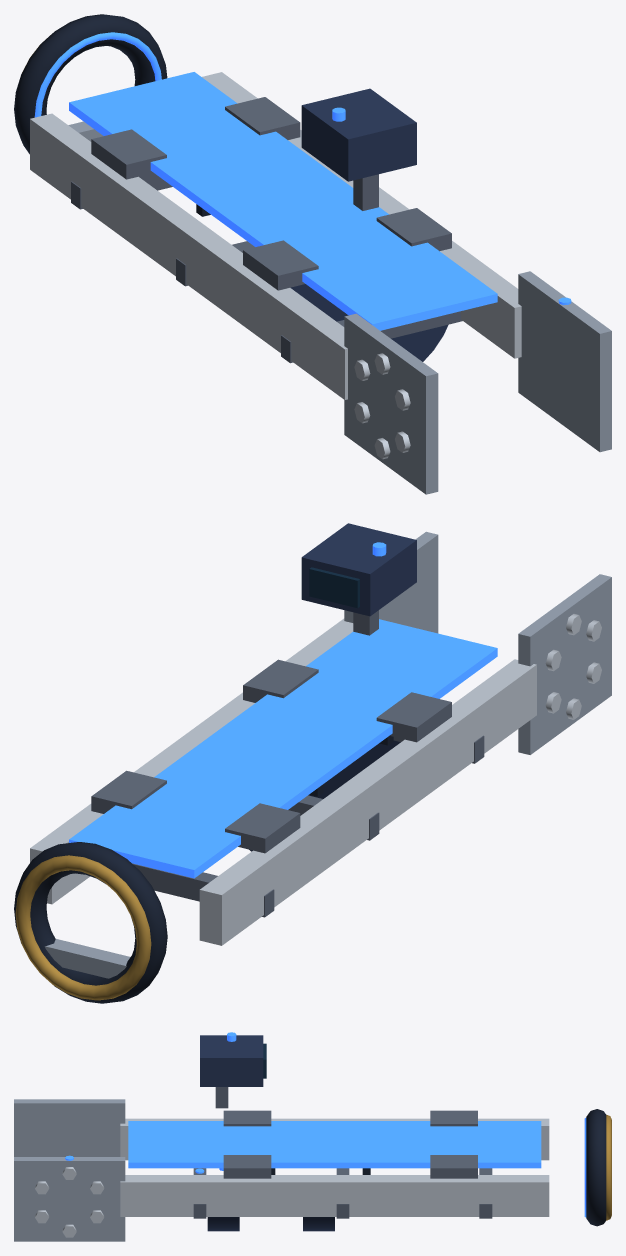
File: tower_lance_damage_s8.glb
The picture shows the model from 3 angles, top to bottom: view 1: azimuth 30°, elevation 25°; view 2: azimuth 150°, elevation 25°; view 3: azimuth 270°, elevation 25°; orthographic projection. The views are drawn at different scales.
Visible parts, largest first — view 1: lance_accelerator_b, lance_heavy_rail_r, lance_breech_cheek_l, lance_breech_cheek_r, lance_sensor_pod, lance_coil4, lance_heavy_rail_l, lance_heavy_rail_brace2_r, lance_heavy_rail_brace_r, lance_heavy_rail_brace2_l, lance_heavy_rail_brace_l, lance_cheek_bolts_l (+4 smaller); view 2: lance_accelerator_b, lance_heavy_rail_r, lance_breech_cheek_r, lance_coil4, lance_sensor_pod, lance_coil_winding4, lance_heavy_rail_l, lance_breech_cheek_l, lance_heavy_rail_brace2_r, lance_heavy_rail_brace_r, lance_insulator4, lance_heavy_rail_brace2_l (+5 smaller); view 3: lance_accelerator_b, lance_heavy_rail_l, lance_breech_cheek_l, lance_breech_cheek_r, lance_sensor_pod, lance_coil4, lance_heavy_rail_r, lance_heavy_rail_brace_l, lance_heavy_rail_brace2_l, lance_cheek_bolts_r, lance_heavy_rail_brace_r, lance_heavy_rail_brace2_r (+7 smaller).
Part boxes in pixels (left/top/right/bottom): lance_accelerator_b: left=69, top=72, right=497, bottom=330; lance_heavy_rail_r: left=30, top=113, right=347, bottom=399; lance_breech_cheek_l: left=518, top=271, right=611, bottom=452; lance_breech_cheek_r: left=344, top=313, right=438, bottom=494; lance_sensor_pod: left=301, top=88, right=416, bottom=181; lance_coil4: left=14, top=14, right=167, bottom=154; lance_heavy_rail_l: left=202, top=72, right=521, bottom=358; lance_heavy_rail_brace2_r: left=91, top=129, right=166, bottom=179; lance_heavy_rail_brace_r: left=243, top=240, right=318, bottom=290; lance_heavy_rail_brace2_l: left=225, top=97, right=300, bottom=139; lance_heavy_rail_brace_l: left=376, top=208, right=451, bottom=251; lance_cheek_bolts_l: left=354, top=353, right=410, bottom=459; lance_accelerator_b: left=69, top=619, right=497, bottom=878; lance_heavy_rail_r: left=199, top=659, right=536, bottom=945; lance_breech_cheek_r: left=518, top=574, right=611, bottom=754; lance_coil4: left=14, top=842, right=167, bottom=1003; lance_sensor_pod: left=301, top=523, right=416, bottom=616; lance_coil_winding4: left=15, top=855, right=151, bottom=1000; lance_heavy_rail_l: left=30, top=618, right=353, bottom=904; lance_breech_cheek_l: left=344, top=531, right=438, bottom=633; lance_heavy_rail_brace2_r: left=225, top=803, right=300, bottom=853; lance_heavy_rail_brace_r: left=376, top=692, right=451, bottom=742; lance_insulator4: left=44, top=939, right=130, bottom=978; lance_heavy_rail_brace2_l: left=91, top=770, right=166, bottom=813; lance_accelerator_b: left=128, top=1121, right=541, bottom=1168; lance_heavy_rail_l: left=120, top=1175, right=549, bottom=1216; lance_breech_cheek_l: left=14, top=1157, right=125, bottom=1241; lance_breech_cheek_r: left=14, top=1099, right=125, bottom=1156; lance_sensor_pod: left=200, top=1035, right=263, bottom=1086; lance_coil4: left=586, top=1109, right=606, bottom=1226; lance_heavy_rail_r: left=120, top=1118, right=549, bottom=1160; lance_heavy_rail_brace_l: left=223, top=1155, right=271, bottom=1178; lance_heavy_rail_brace2_l: left=430, top=1155, right=477, bottom=1178; lance_cheek_bolts_r: left=35, top=1167, right=104, bottom=1237; lance_heavy_rail_brace_r: left=223, top=1110, right=271, bottom=1126; lance_heavy_rail_brace2_r: left=430, top=1110, right=477, bottom=1126.
Bounding box in the file's own units: 0.974 × 1.28 × 3.76.
